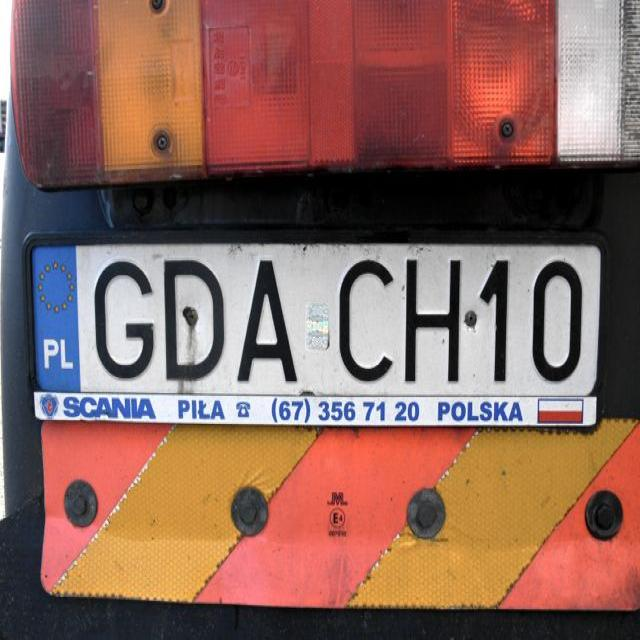pl_license_plate: (32, 242, 599, 393)
